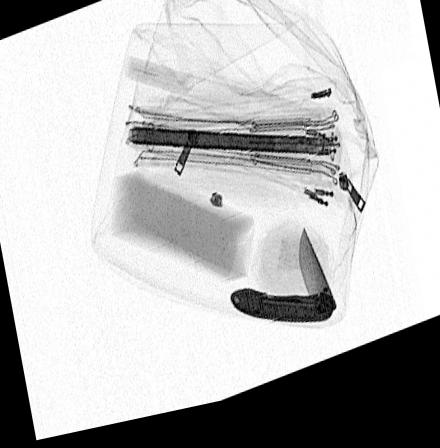Knife: (226, 236, 336, 341)
